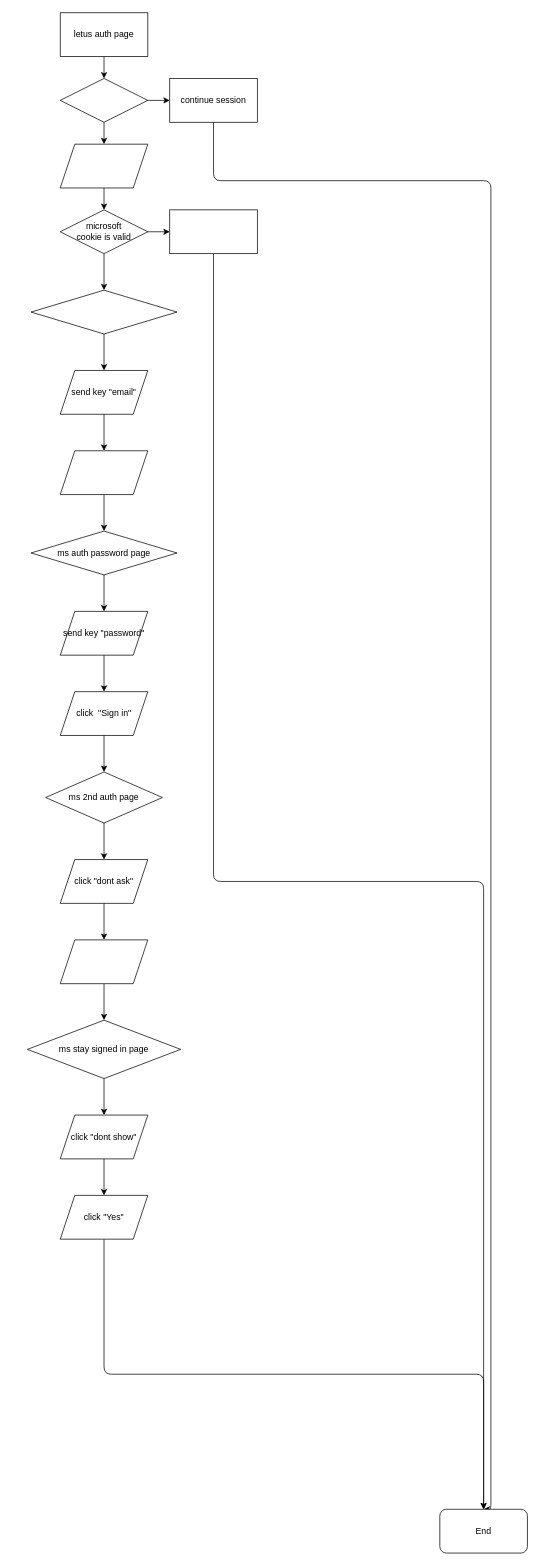
This 540x1566 diagram has some shape labels left out. The box of each missing label's shape, as (x1, y1, x2, y2) in pixels:
approve on mobile app: (59, 939, 148, 984)
click "Next": (59, 450, 148, 495)
click "student": (59, 143, 148, 188)
letus cookie is valid: (59, 78, 148, 122)
login with microsoft authentication: (169, 209, 257, 254)
ms auth email page: (30, 289, 177, 334)
